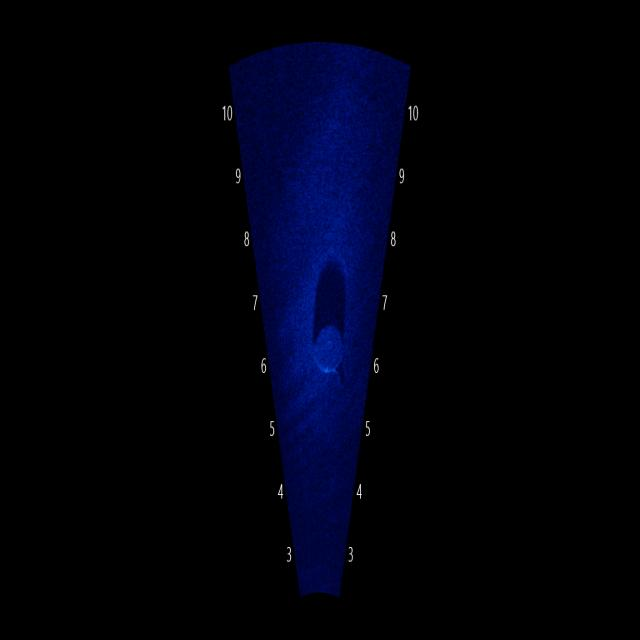circle: (302, 280, 358, 407)
